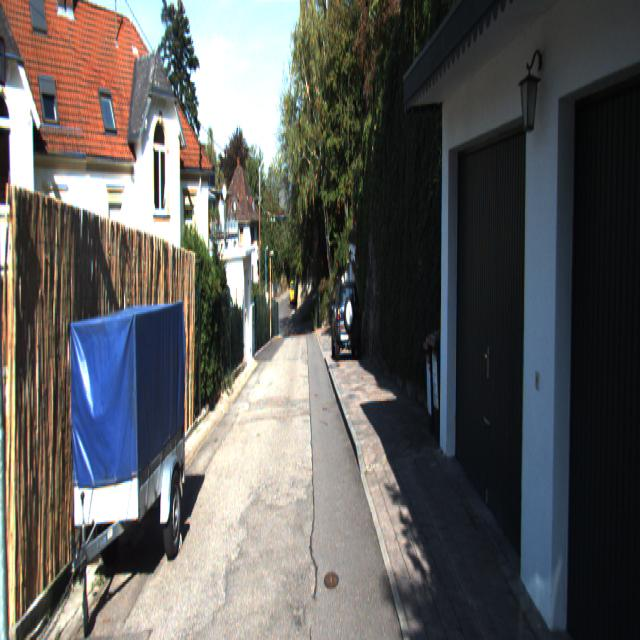Car: (71, 297, 187, 609), (330, 281, 363, 364)
